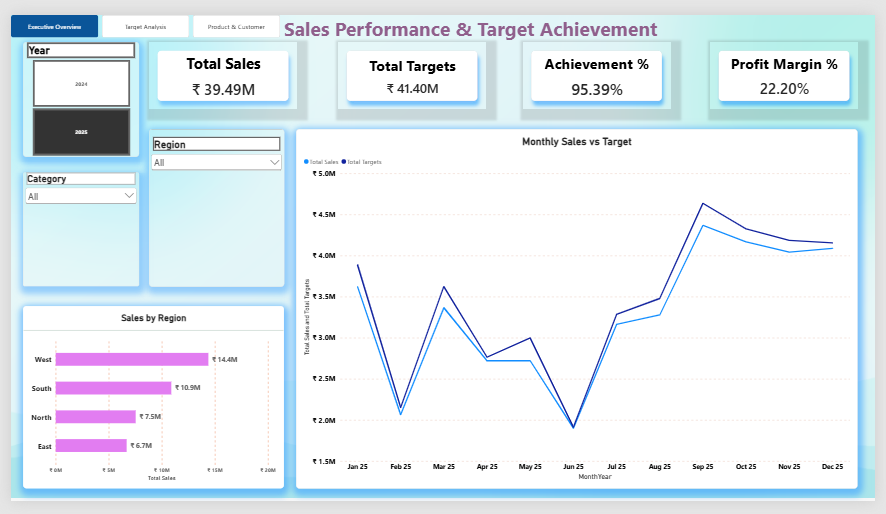

The page's visual inventory and layout, read from the dashboard file:
{"tool":"powerbi","page":{"name":"Executive Overview","canvas":[1920,1080],"ordinal":0},"visuals":[{"type":"textbox","box":[606,0,930.5,119.3],"z":2},{"type":"slicer","fields":{"Values":["Calendar.Year"]},"box":[26.2,59.6,257.7,255.3],"z":3},{"type":"slicer","fields":{"Values":["Region.Region"]},"box":[305.4,252.9,300.6,350.7],"z":4},{"type":"slicer","fields":{"Values":["Category.Category"]},"box":[26.2,350.7,257.7,252.9],"z":5},{"type":"cardVisual","fields":{"Data":["sales.Total Sales"]},"box":[305.4,59.6,329.3,150.3],"z":6},{"type":"cardVisual","fields":{"Data":["sales.Total Targets"]},"box":[725.3,59.6,329,150],"z":7},{"type":"cardVisual","fields":{"Data":["sales.Achievement %"]},"box":[1138.1,59.6,329,150],"z":8},{"type":"cardVisual","fields":{"Data":["sales.Profit Margin %"]},"box":[1553.2,59.6,329,150],"z":9},{"type":"lineChart","title":"Monthly Sales vs Target","fields":{"Category":["Calendar.MonthYear"],"Y":["sales.Total Sales"],"Y2":["sales.Total Targets"]},"box":[634.7,252.9,1247.8,799.3],"z":10},{"type":"clusteredBarChart","title":"Sales by Region","fields":{"Category":["Region.Region"],"Y":["sales.Total Sales"]},"box":[26.2,646.6,579.8,405.6],"z":11},{"type":"pageNavigator","box":[0,0,600,50],"z":12}]}

Visuals, with their boxes in screenshot pixels (x1, y1, x2, y2):
textbox: region(280, 9, 704, 64)
slicer - Calendar.Year: region(17, 36, 134, 153)
slicer - Region.Region: region(144, 124, 280, 284)
slicer - Category.Category: region(17, 169, 134, 284)
cardVisual - sales.Total Sales: region(144, 36, 293, 105)
cardVisual - sales.Total Targets: region(335, 36, 484, 105)
cardVisual - sales.Achievement %: region(523, 36, 672, 105)
cardVisual - sales.Profit Margin %: region(711, 36, 861, 105)
"Monthly Sales vs Target" lineChart: region(293, 124, 861, 488)
"Sales by Region" clusteredBarChart: region(17, 303, 280, 488)
pageNavigator: region(5, 9, 278, 32)
